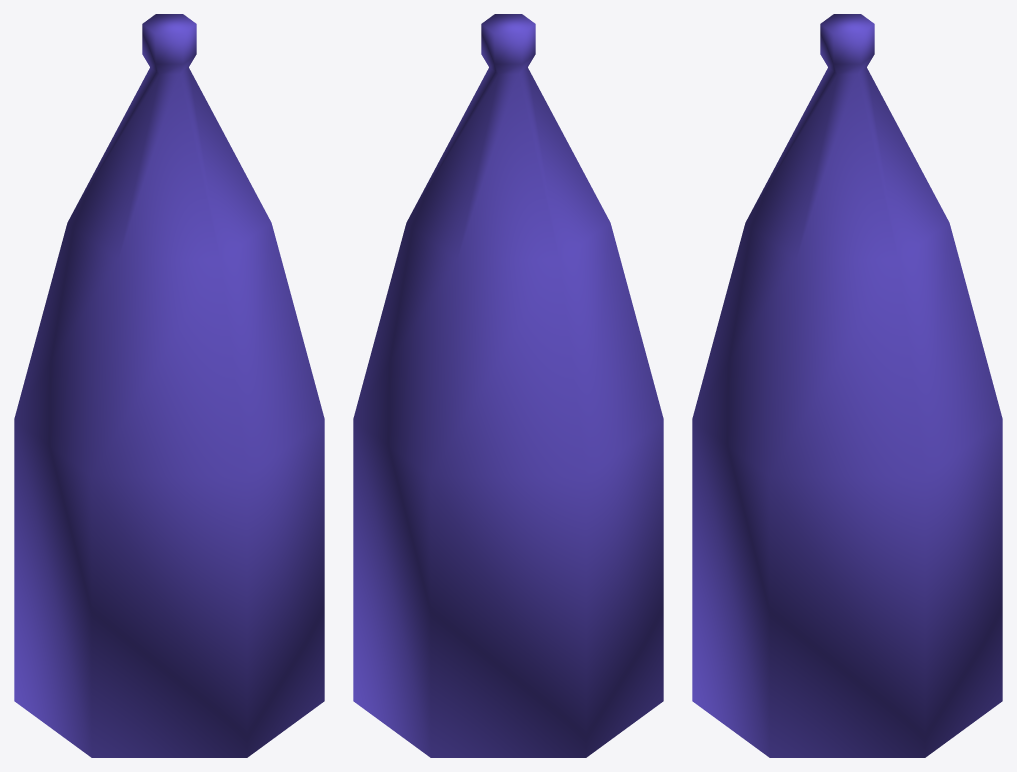
File: drink_bottle_blue.fbx
3 views of the same model, side by side, from view 1: azimuth 30°, elevation 25°; view 2: azimuth 150°, elevation 25°; view 3: azimuth 270°, elevation 25° (orthographic).
Parts seen in each view (by area): view 1: Cylinder; view 2: Cylinder; view 3: Cylinder.
Part boxes in pixels (left/top/right/bottom): Cylinder: left=14, top=14, right=324, bottom=757; Cylinder: left=353, top=14, right=663, bottom=757; Cylinder: left=692, top=14, right=1002, bottom=757.
Bounding box in the file's own units: 173 × 481 × 200.
